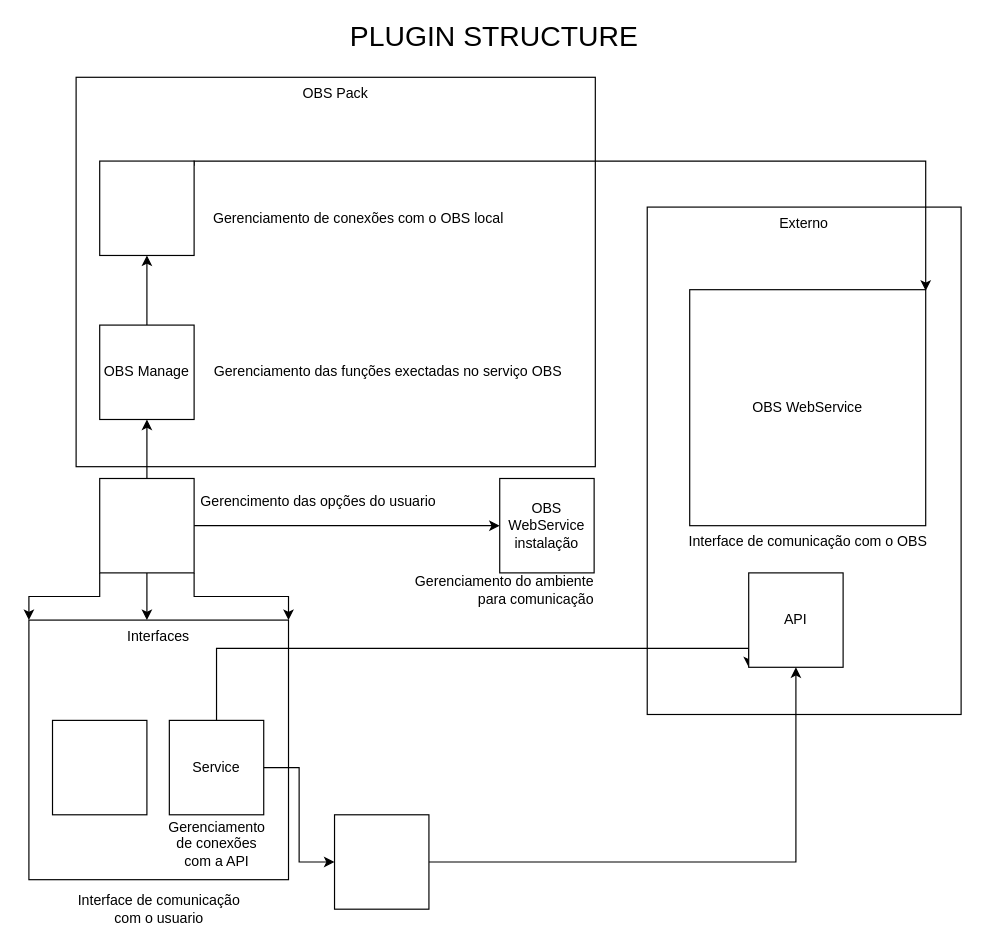
Some shapes in this 982 by 948 pixel diagram are drawn without their labels. Here are the shapes that lost their labels. From the top down, the centre of each, then its label:
At point (146, 207): "OBS Service".
At point (146, 525): "Manage".
At point (99, 767): "Pages".
At point (381, 861): "Autenticação".
